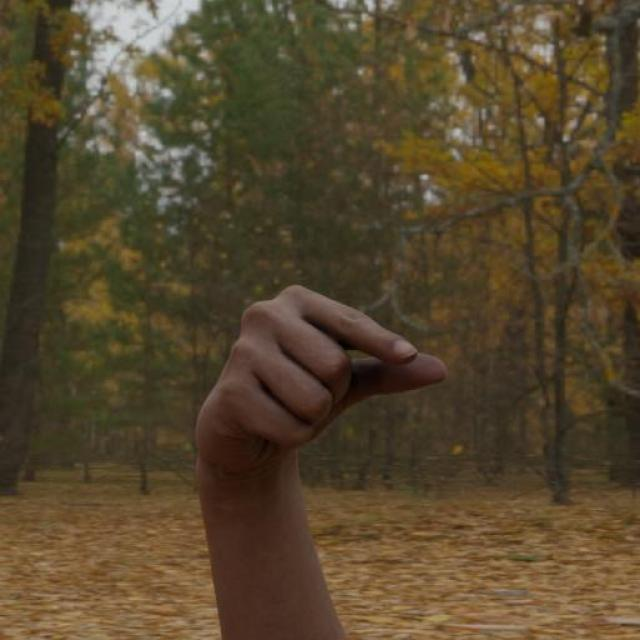G: (184, 274, 461, 538)
